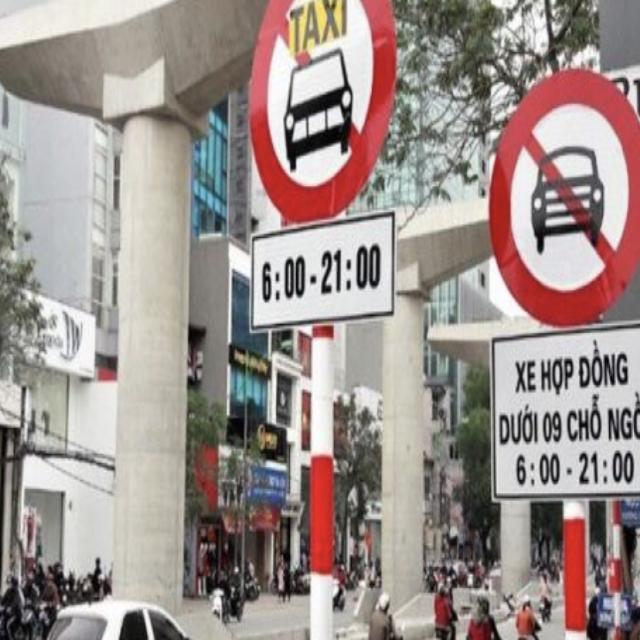103a-cam-oto: (488, 69, 640, 324), (250, 0, 395, 218)
